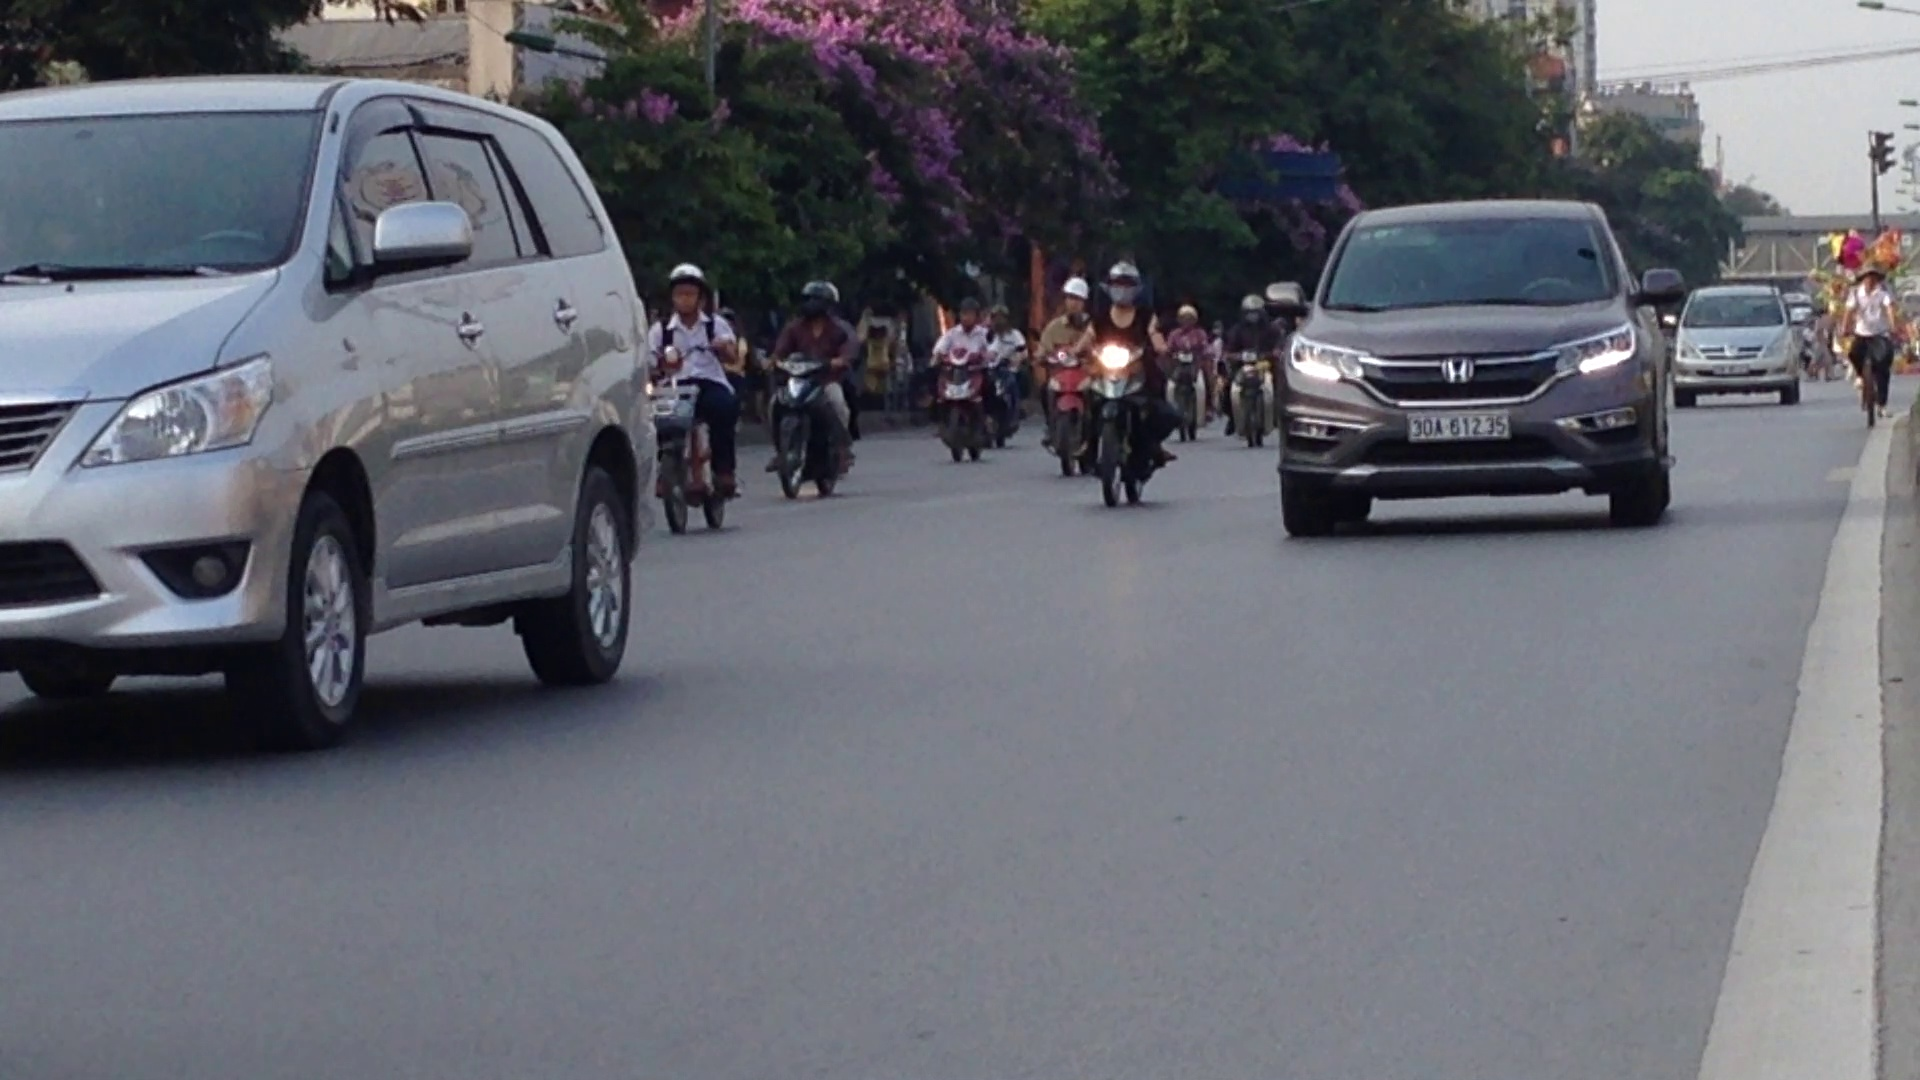vehicle-plate: (1402, 408, 1513, 443)
